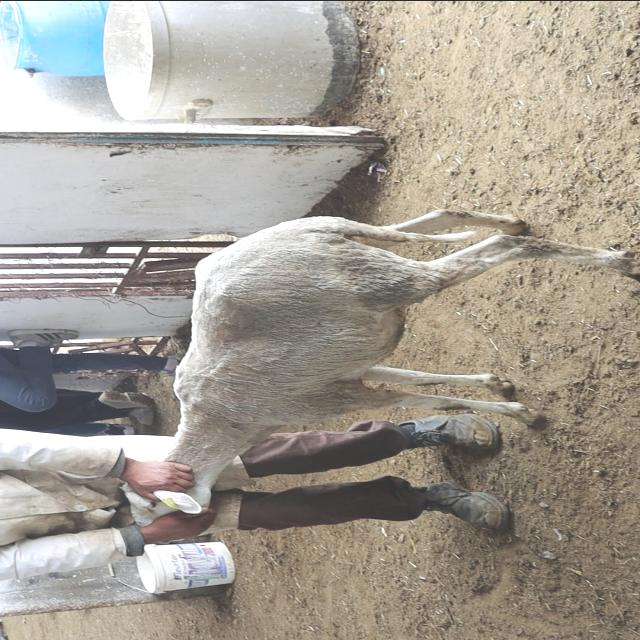Score_3: (122, 209, 639, 525)
